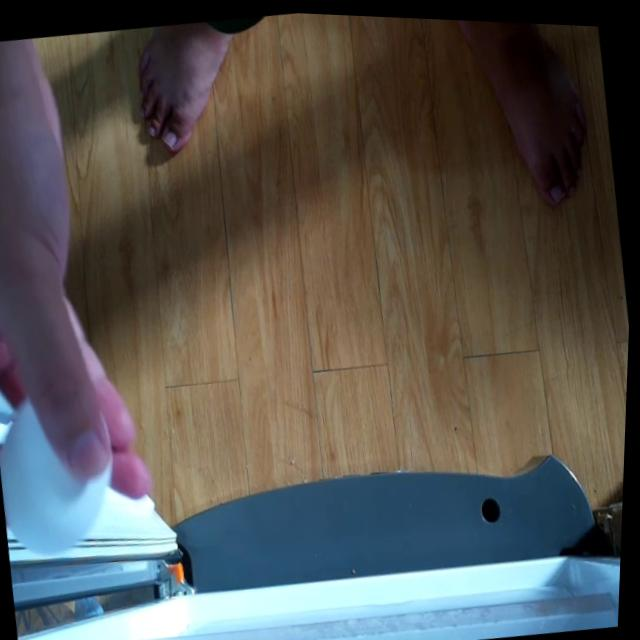egg: (0, 375, 132, 562)
